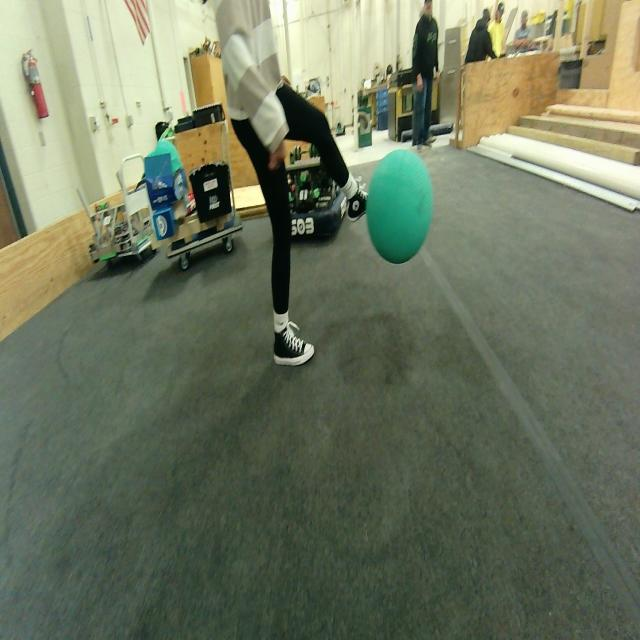algae: (360, 144, 438, 274)
